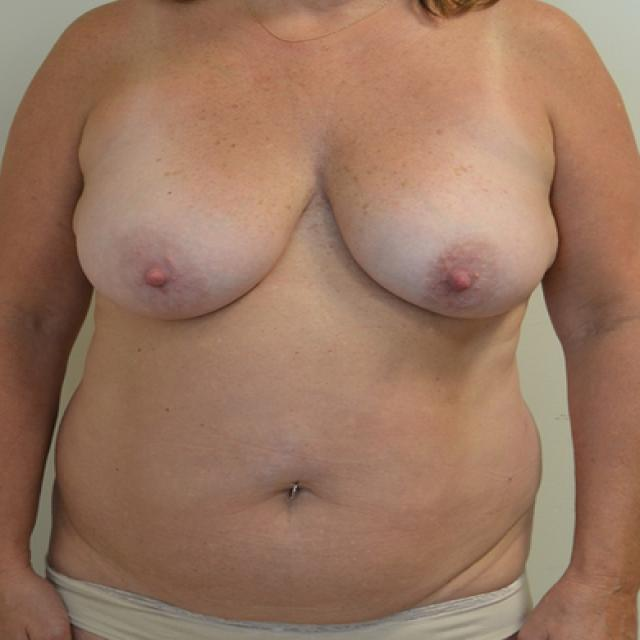Seno ileso: (66, 121, 316, 335), (321, 121, 567, 334)
